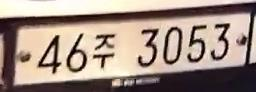0: (160, 25, 186, 68)
3: (135, 26, 160, 69), (209, 21, 232, 63)
4: (37, 30, 65, 76)
5: (185, 23, 208, 63)
6: (66, 31, 90, 75)
주: (90, 30, 120, 72)
